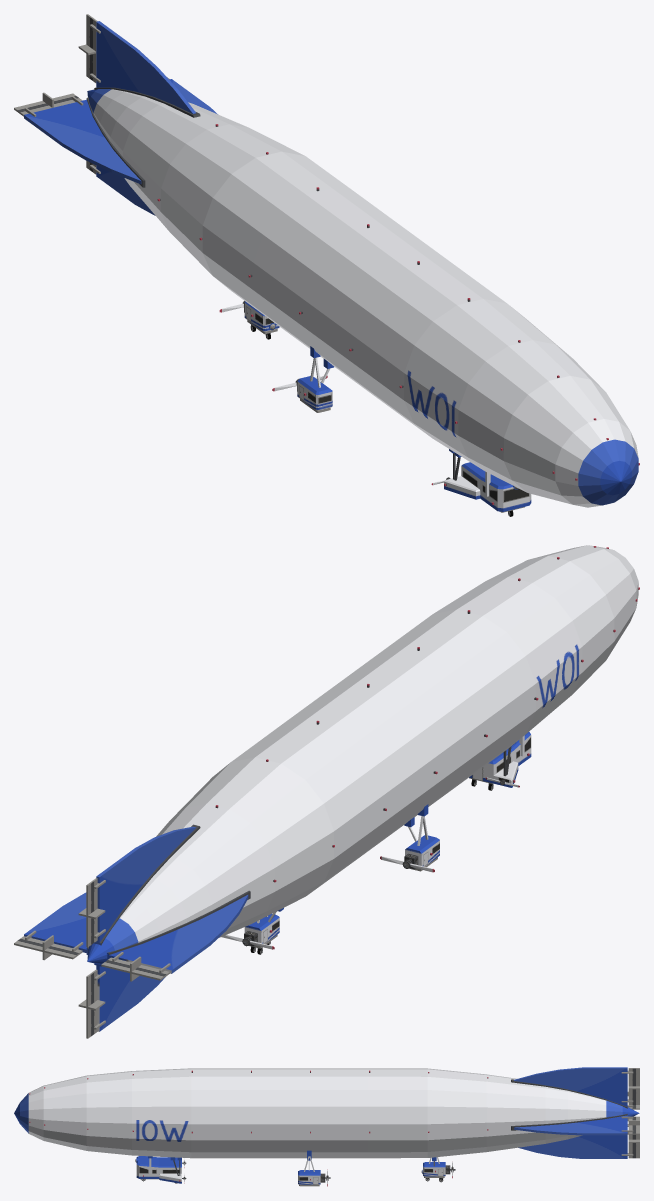
3 views of the same model, one above another, from view 1: azimuth 30°, elevation 25°; view 2: azimuth 150°, elevation 25°; view 3: azimuth 270°, elevation 25° (orthographic). The views are drawn at different scales.
Parts seen in each view (by area): view 1: Airship_a, Back_wings_b; view 2: Airship_a, Back_wings_b, Back_wings_d, Back_wings_c, Back_wings_a; view 3: Airship_a, Back_wings_b, Back_wings_d, Back_wings_a.
Part boxes in pixels (bbox=[...]): Airship_a: bbox=[24, 21, 639, 515]; Back_wings_b: bbox=[78, 14, 97, 82]; Airship_a: bbox=[24, 545, 639, 1031]; Back_wings_b: bbox=[78, 878, 105, 947]; Back_wings_d: bbox=[78, 969, 105, 1038]; Back_wings_c: bbox=[101, 956, 169, 981]; Back_wings_a: bbox=[14, 935, 82, 960]; Airship_a: bbox=[14, 1067, 639, 1186]; Back_wings_b: bbox=[628, 1068, 639, 1104]; Back_wings_d: bbox=[628, 1134, 639, 1158]; Back_wings_a: bbox=[628, 1116, 639, 1134].
Bounding box in the file's own units: 484 × 549 × 2755.
1 material, 1 textured.
